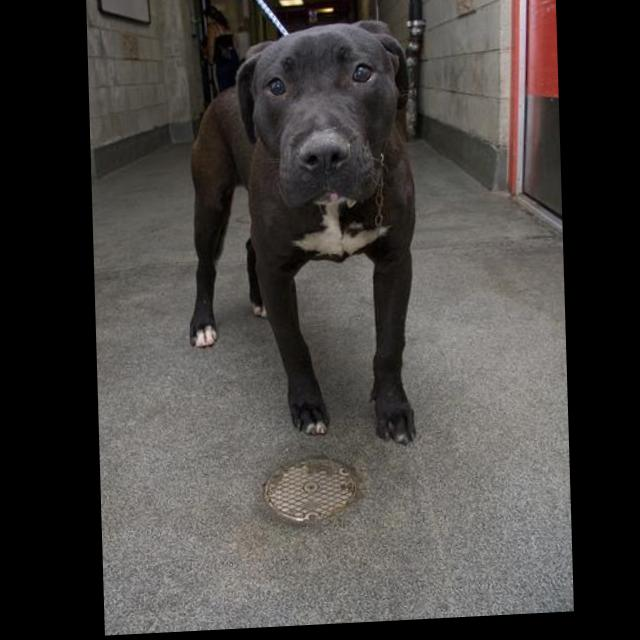amstaff: (179, 20, 421, 458)
